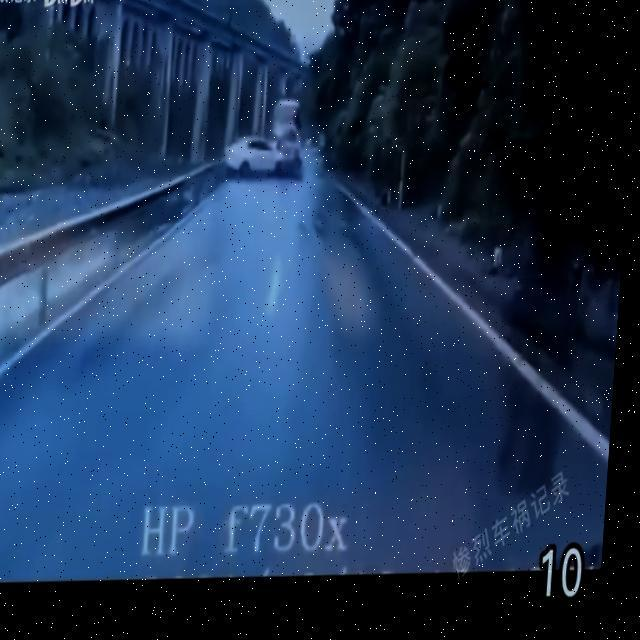multiple_accident: (197, 108, 338, 197)
